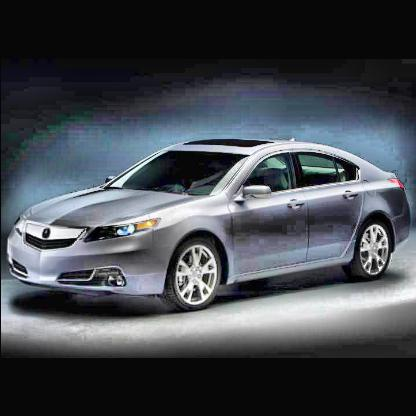Acura RL Sedan 2012: (5, 136, 414, 315)
